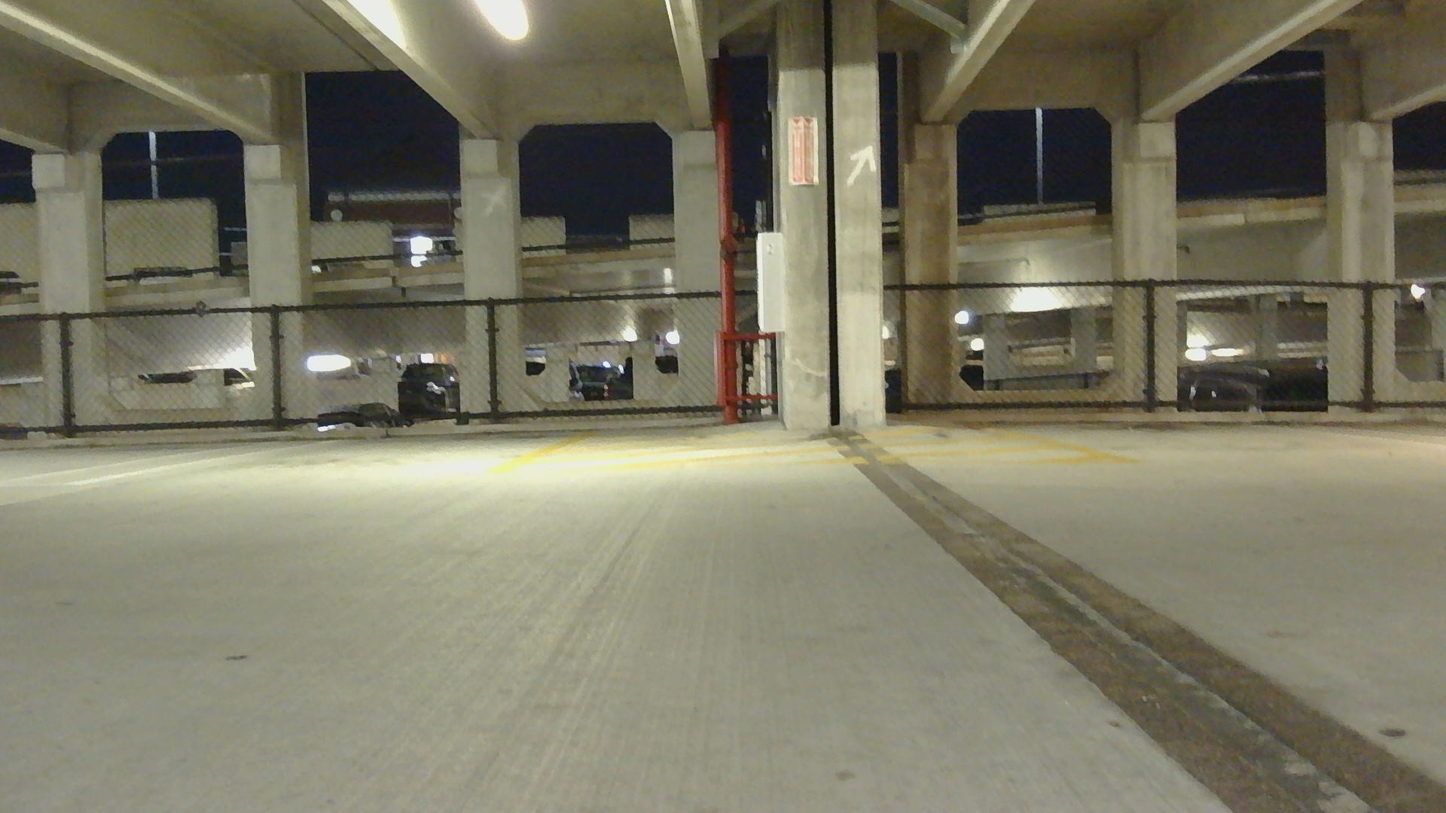empty_spot: (942, 313, 1446, 487), (92, 373, 590, 488)
